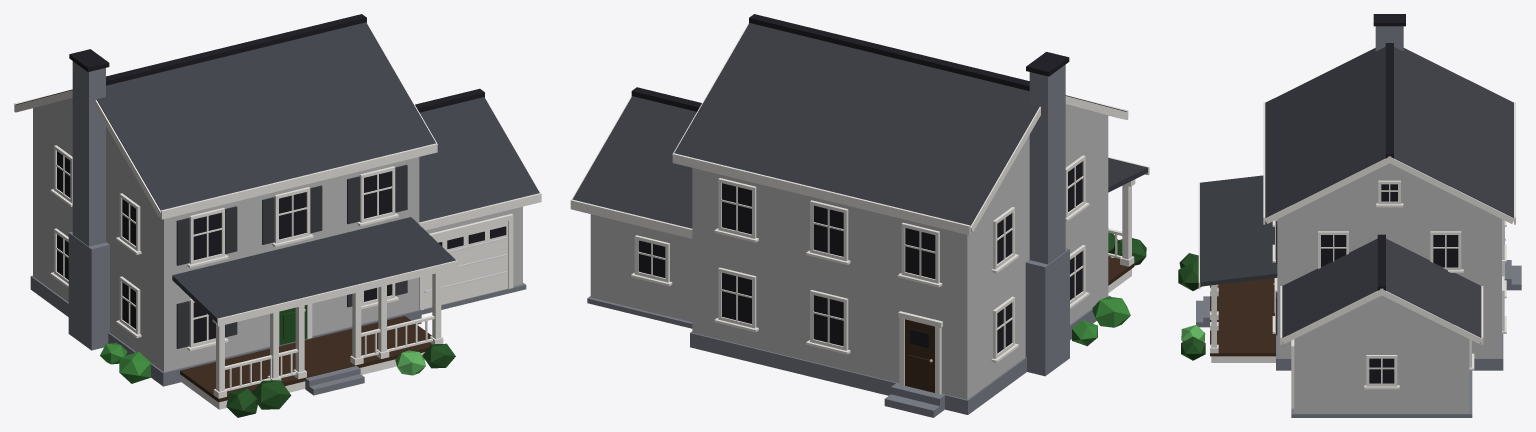
3 renders of one model, left to right at view 1: azimuth 30°, elevation 25°; view 2: azimuth 150°, elevation 25°; view 3: azimuth 270°, elevation 25°, orthographic. The views are drawn at different scales.
Visible parts, largest first — view 1: roof_asphalt, body_pastel_siding, porch_asphalt, chimney_mid_grey, garage_asphalt, porch_white_trim, windows_white_trim, garage_white_trim, porch_dark_wood, windows_soot_black, windows_asphalt, roof_white_trim (+12 smaller); view 2: body_pastel_siding, roof_asphalt, chimney_mid_grey, garage_asphalt, windows_white_trim, windows_soot_black, garage_pastel_siding, roof_white_trim, foundation_mid_grey, roof_soot_black, garage_white_trim, doors_dark_wood (+9 smaller); view 3: roof_asphalt, garage_pastel_siding, body_pastel_siding, garage_asphalt, porch_asphalt, porch_dark_wood, garage_white_trim, roof_white_trim, windows_white_trim, windows_soot_black, porch_white_trim, garage_soot_black (+8 smaller).
Boxes of the visible parts, <box> form: roof_asphalt: <box>16,22,435,210</box>; body_pastel_siding: <box>33,97,419,372</box>; porch_asphalt: <box>172,217,455,322</box>; chimney_mid_grey: <box>68,61,109,350</box>; garage_asphalt: <box>419,97,539,222</box>; porch_white_trim: <box>181,260,457,409</box>; windows_white_trim: <box>50,145,398,351</box>; garage_white_trim: <box>419,97,541,310</box>; porch_dark_wood: <box>180,316,431,402</box>; windows_soot_black: <box>57,151,391,343</box>; windows_asphalt: <box>176,164,407,348</box>; roof_white_trim: <box>14,22,437,219</box>; body_pastel_siding: <box>692,104,1108,399</box>; roof_asphalt: <box>674,23,1126,225</box>; chimney_mid_grey: <box>1025,65,1069,376</box>; garage_asphalt: <box>572,96,696,228</box>; windows_white_trim: <box>714,155,1089,362</box>; windows_soot_black: <box>722,161,1082,353</box>; garage_pastel_siding: <box>590,214,692,321</box>; roof_white_trim: <box>672,22,1128,235</box>; foundation_mid_grey: <box>690,295,1110,414</box>; roof_soot_black: <box>749,14,1029,90</box>; garage_white_trim: <box>570,96,692,286</box>; doors_dark_wood: <box>905,319,934,392</box>; roof_asphalt: <box>1265,47,1513,217</box>; garage_pastel_siding: <box>1294,295,1469,413</box>; body_pastel_siding: <box>1277,163,1501,358</box>; garage_asphalt: <box>1282,238,1481,337</box>; porch_asphalt: <box>1200,175,1277,286</box>; porch_dark_wood: <box>1210,278,1275,356</box>; garage_white_trim: <box>1280,286,1483,408</box>; roof_white_trim: <box>1263,102,1515,224</box>; windows_white_trim: <box>1272,180,1506,333</box>; windows_soot_black: <box>1321,184,1458,267</box>; porch_white_trim: <box>1198,182,1275,362</box>; garage_soot_black: <box>1369,234,1394,383</box>.
Bounding box in the file's own units: 14.53 × 9.47 × 12.23.
